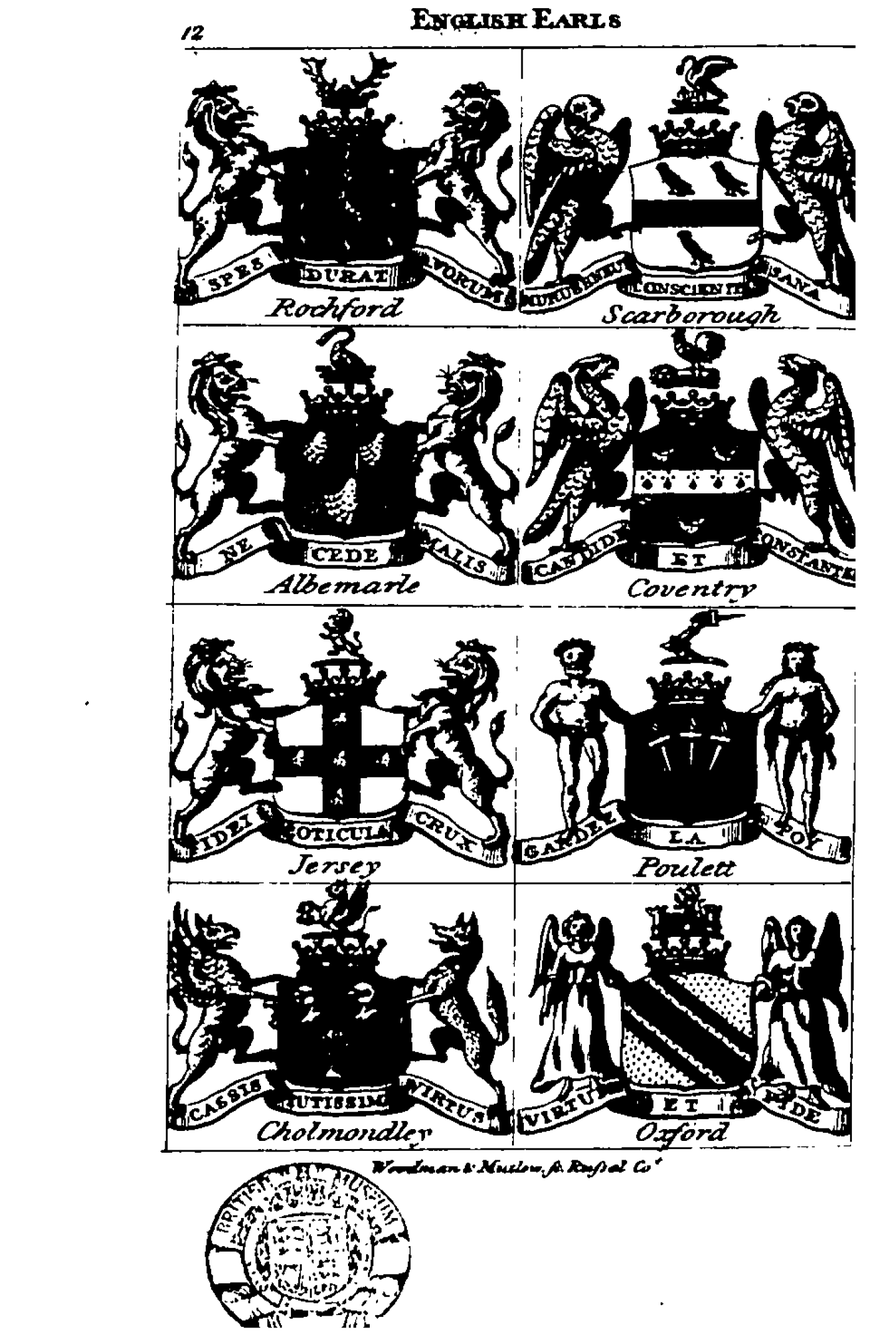coat_of_arms: (172, 605, 516, 882), (179, 328, 518, 607), (519, 326, 854, 605), (519, 51, 851, 329), (520, 608, 853, 878), (191, 49, 515, 325), (173, 887, 519, 1145), (516, 888, 848, 1156)
